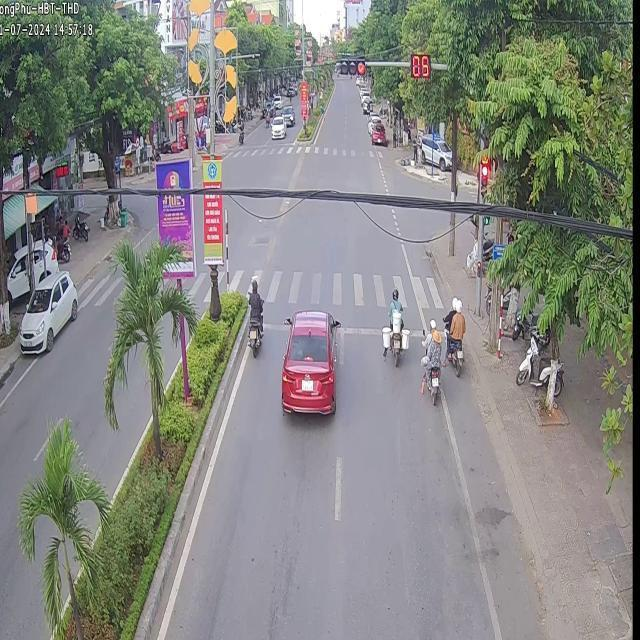car: (279, 309, 338, 411), (18, 269, 77, 351), (418, 131, 450, 171), (6, 245, 27, 302), (43, 238, 57, 272), (32, 238, 42, 285), (369, 120, 386, 144), (269, 111, 284, 137), (280, 105, 293, 125)
motobike: (379, 287, 408, 365), (444, 298, 464, 372), (514, 331, 538, 382), (247, 276, 262, 356), (424, 362, 438, 401), (530, 362, 549, 387), (552, 360, 562, 396)
red_light: (411, 56, 430, 78), (340, 59, 365, 74), (479, 154, 487, 192)
stop_line: (342, 325, 379, 334), (262, 321, 288, 330), (408, 327, 427, 336)
